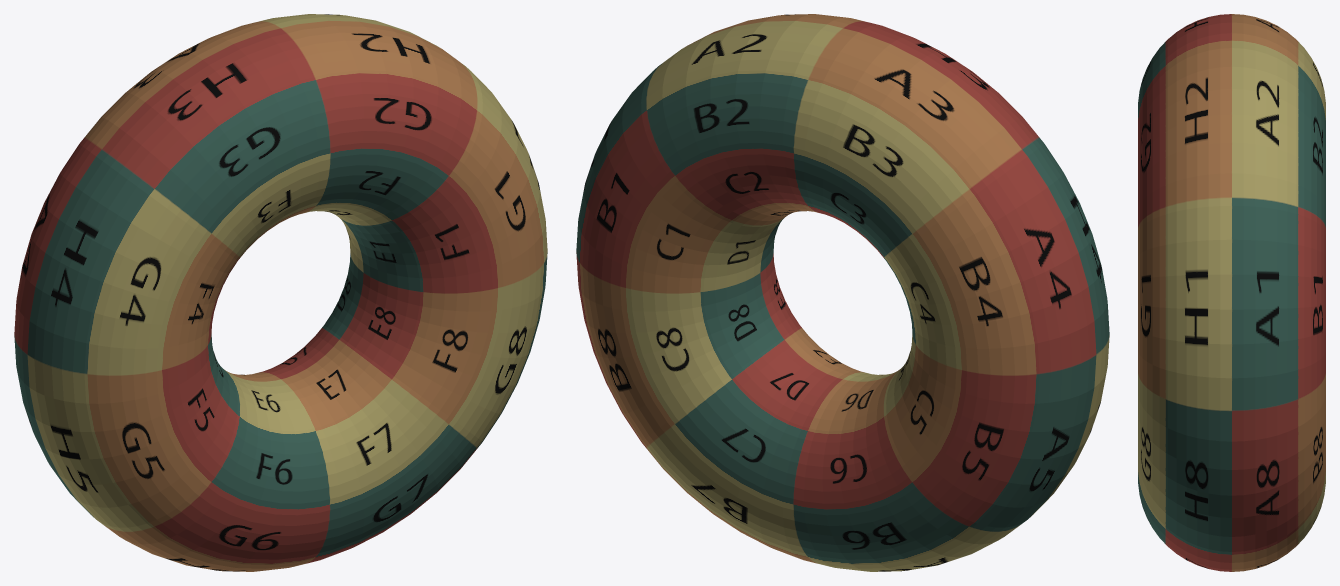
The model's file is texture_torus_R9_r23.glb.
The picture shows the model from 3 angles, left to right: view 1: azimuth 30°, elevation 25°; view 2: azimuth 150°, elevation 25°; view 3: azimuth 270°, elevation 25°; orthographic projection. The views are drawn at different scales.
Parts seen in each view (by area): view 1: world; view 2: world; view 3: world.
Boxes of the visible parts, x1,y1,x2,y2 form: world: [14, 14, 547, 571]; world: [576, 14, 1109, 571]; world: [1138, 14, 1325, 571].
Size of the model in its own units: 24.13 by 24.09 by 8.12.
Materials: 1 (1 with a texture image).
